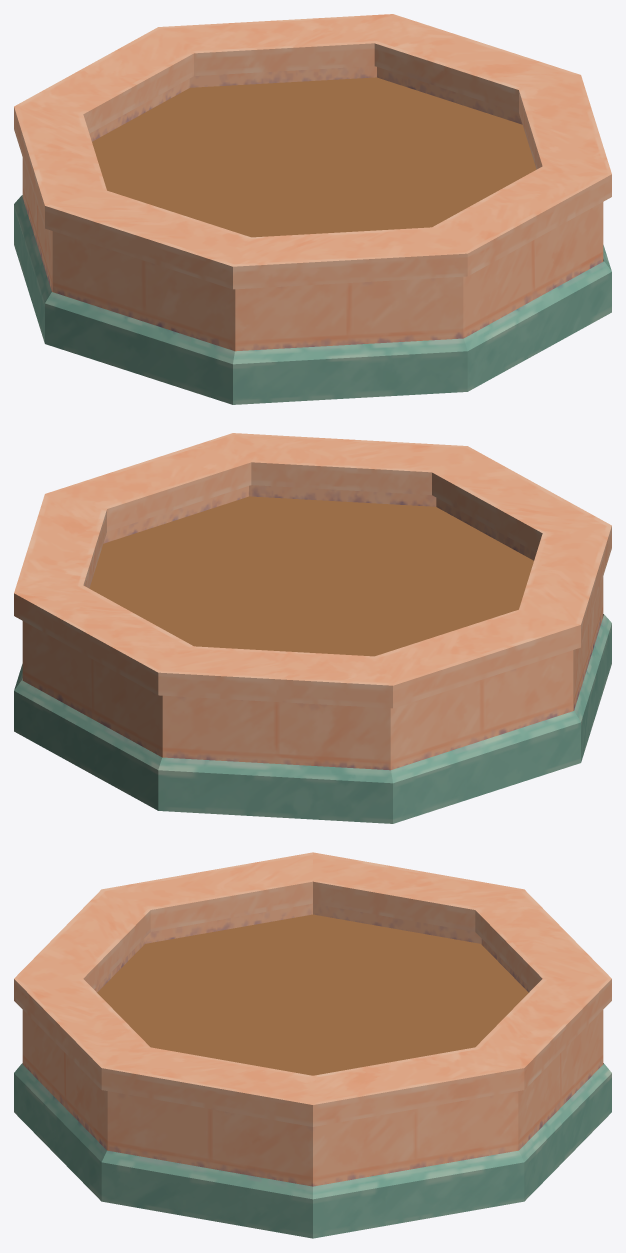
Rendered from vat_saffron_low.fbx.
The picture shows the model from 3 angles, top to bottom: view 1: azimuth 30°, elevation 25°; view 2: azimuth 150°, elevation 25°; view 3: azimuth 270°, elevation 25°; orthographic projection. The views are drawn at different scales.
Visible parts, largest first — view 1: vat_saffron; view 2: vat_saffron; view 3: vat_saffron.
Part boxes in pixels (bbox=[...]): vat_saffron: bbox=[14, 14, 611, 404]; vat_saffron: bbox=[14, 433, 611, 823]; vat_saffron: bbox=[14, 852, 611, 1238].
Size of the model in its own units: 6.9 by 1.7 by 6.9.
1 material, 1 textured.
